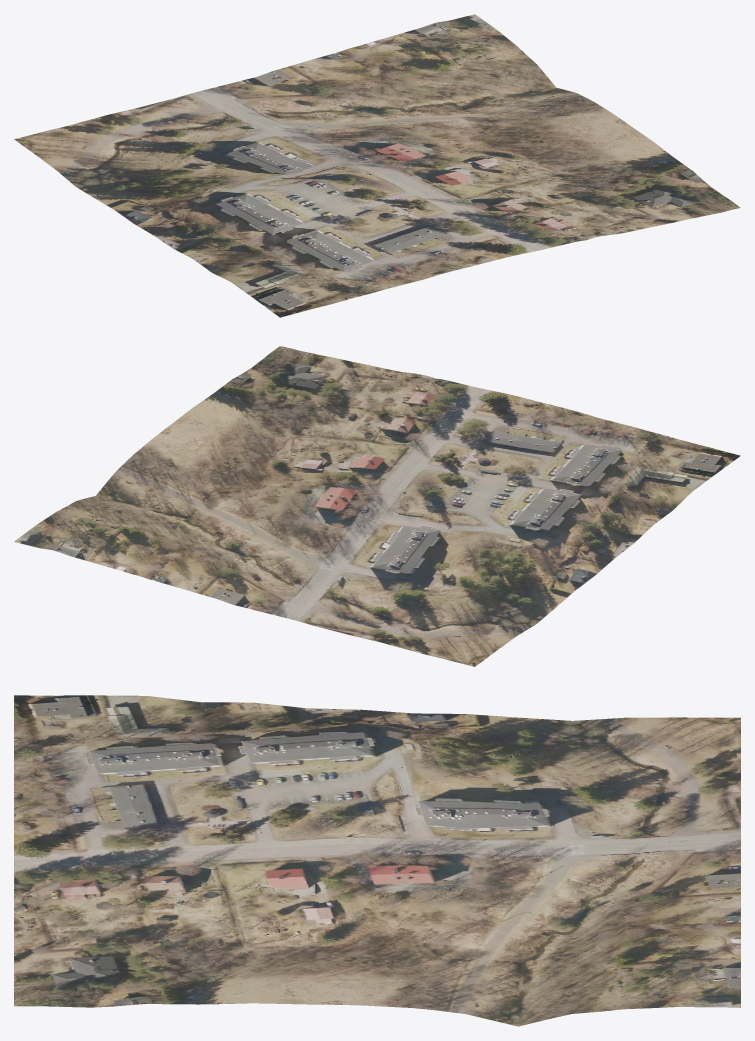
File: CM_Terrain_24491278_6821022.fbx
3 views of the same model, one above another, from view 1: azimuth 30°, elevation 25°; view 2: azimuth 150°, elevation 25°; view 3: azimuth 270°, elevation 25° (orthographic). The views are drawn at different scales.
Parts seen in each view (by area): view 1: CM_Terrain_24491278_6821022_LOD0; view 2: CM_Terrain_24491278_6821022_LOD0; view 3: CM_Terrain_24491278_6821022_LOD0.
Boxes of the visible parts, <box> form: CM_Terrain_24491278_6821022_LOD0: <box>14,14,740,317</box>; CM_Terrain_24491278_6821022_LOD0: <box>14,346,740,666</box>; CM_Terrain_24491278_6821022_LOD0: <box>14,695,740,1026</box>.
Size of what is drawn, in the model's own units: 205 by 10.21 by 205.
